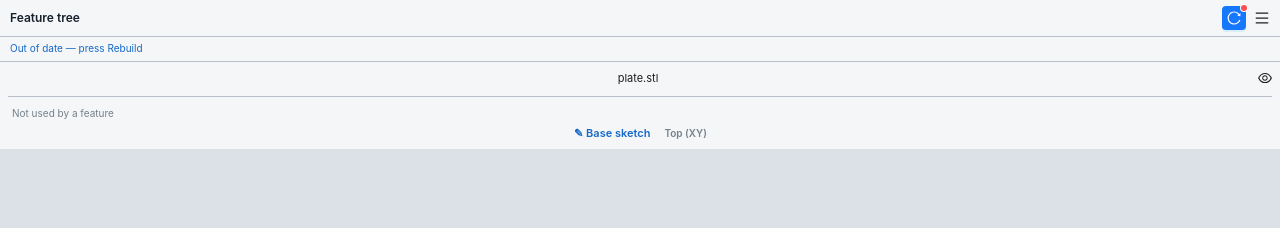
Test: FeatureTreePanel › says an imported base cannot be edited here, rather than offering nothing
What coordinates should you click on to do the following:
click the button "plate.stl"
I would click on:
 (638, 78)
Its box is [23,66,1253,90].
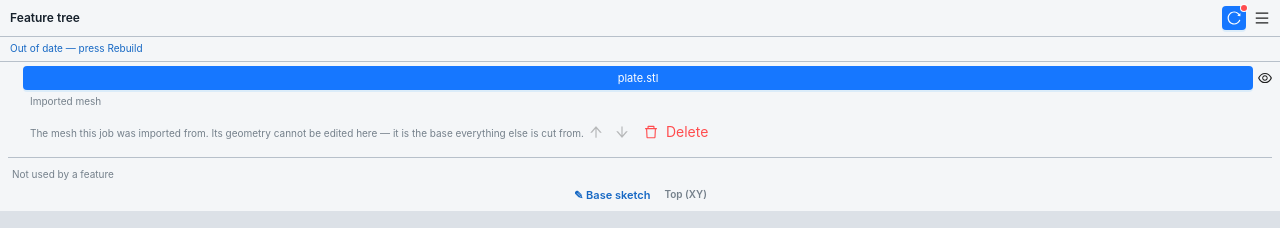
Expected: the text "cannot be edited here" is shown, [30,127,584,139]
